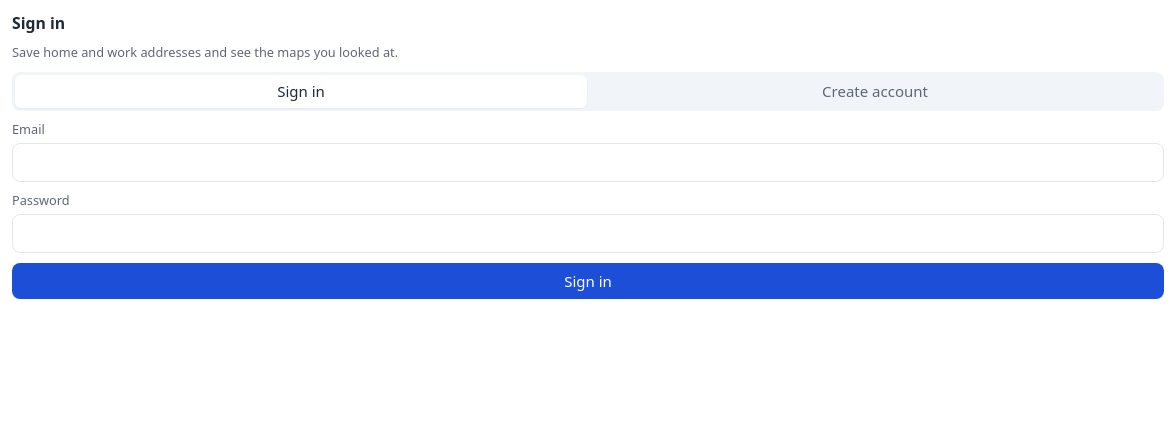
Test: sign-in and registration form › puts a server validation error at its field
The width and height of the screenshot is (1176, 428).
Click the tab "Create account": click(875, 91) [589, 75, 1161, 108]
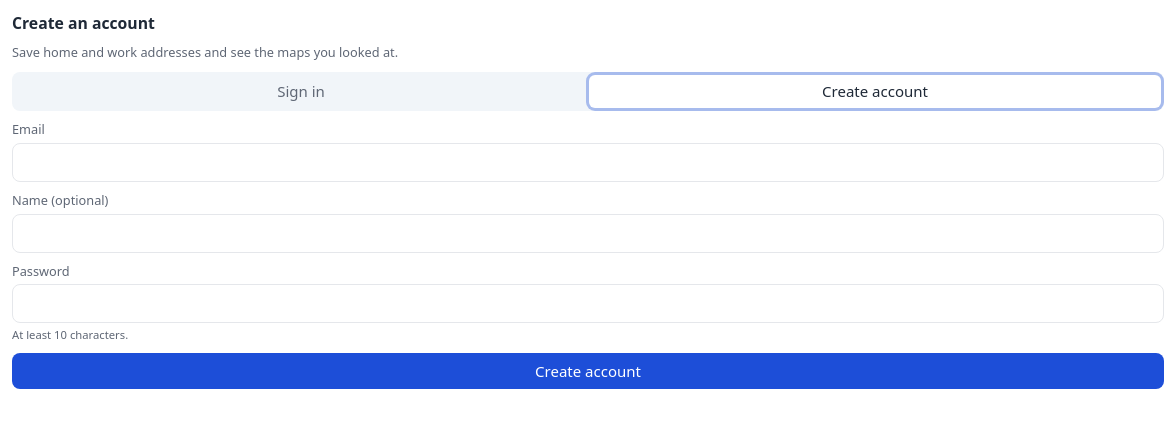
In the field labelled "Email": (588, 162) [12, 143, 1164, 182], type "ann@example.com"
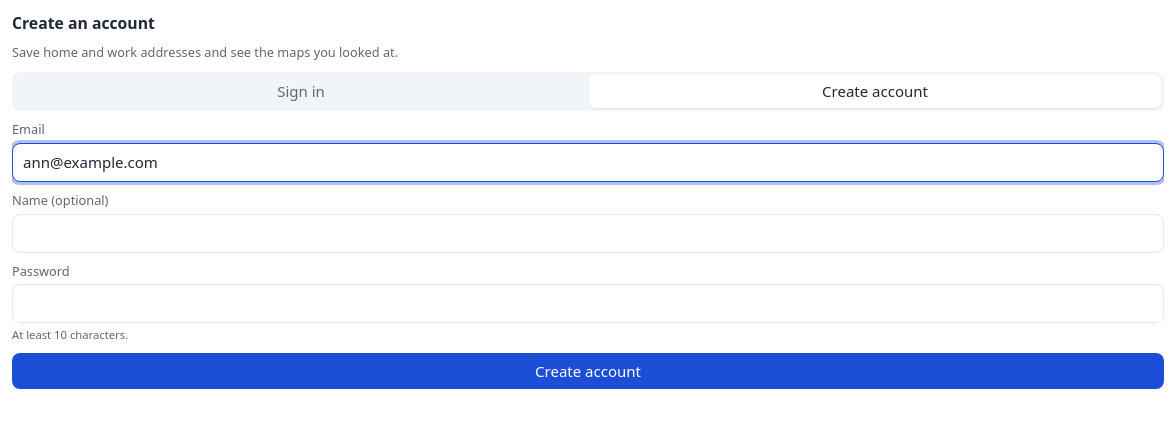
In the password field labelled "Password": (588, 304) [12, 284, 1164, 323], type "correct horse battery"
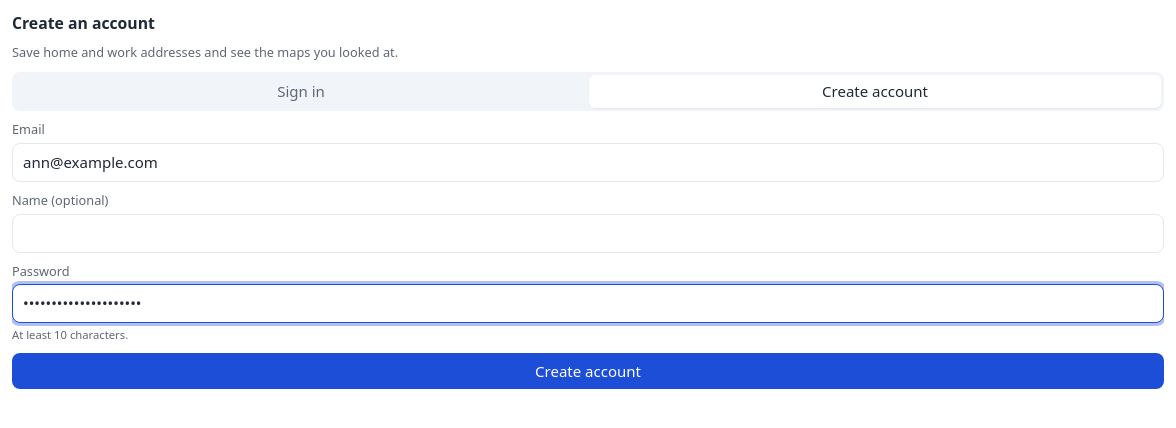
Click the button "Create account": click(588, 371) [12, 353, 1164, 389]
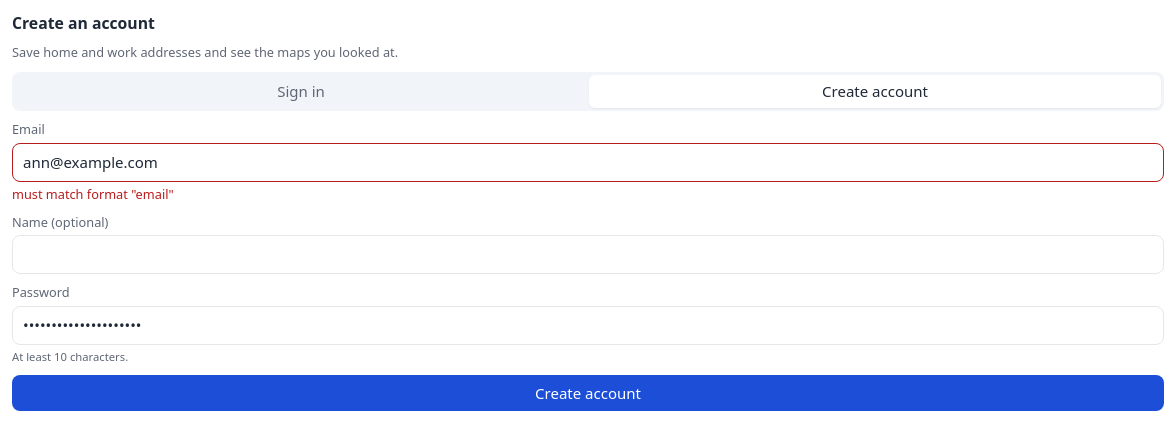
Now the text "must match format \"email\"" is shown, box [12, 185, 174, 203]
